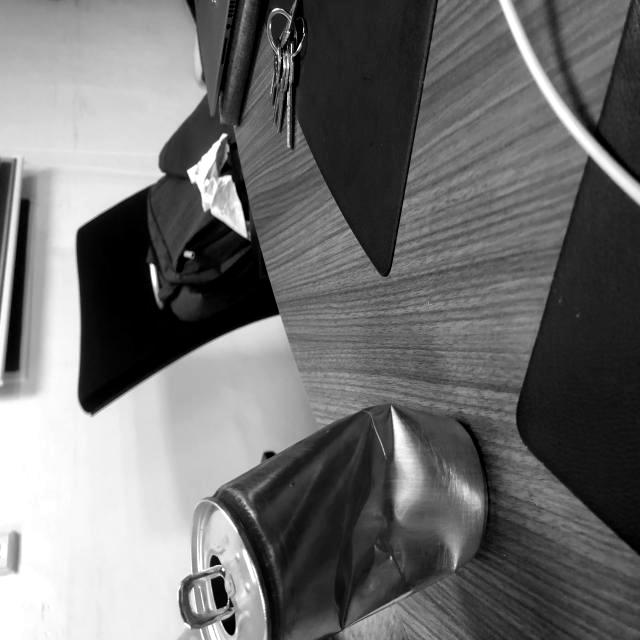deform: (309, 403, 464, 639)
metal: (179, 403, 498, 640)
